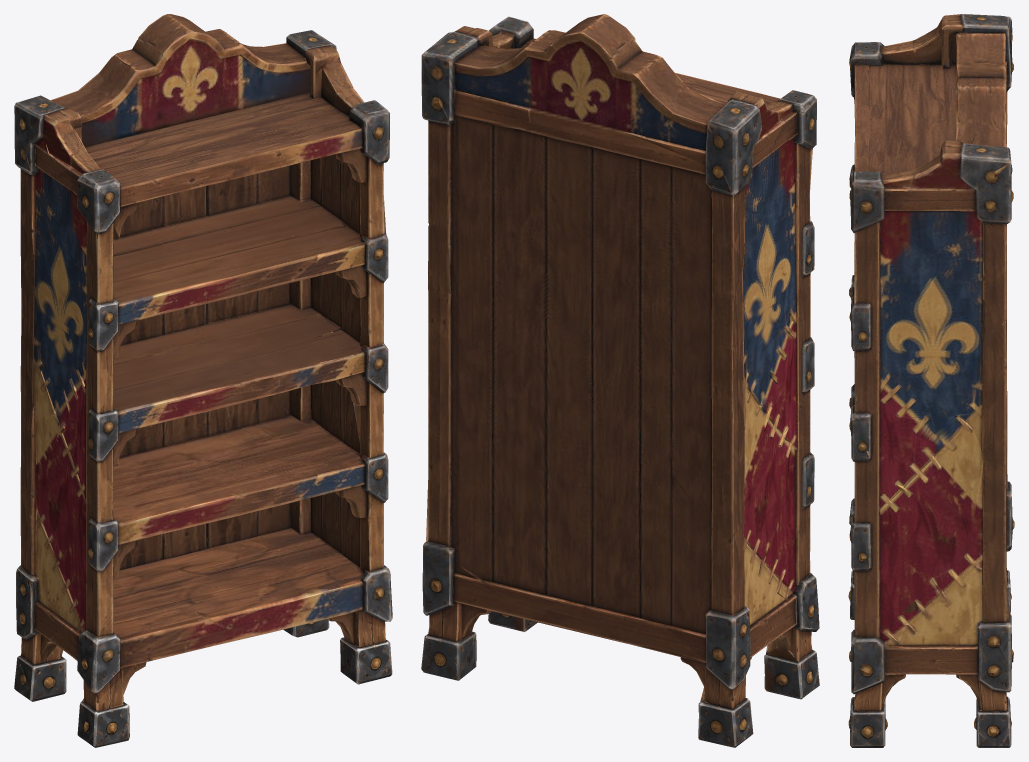
The model's file is shelf_unit.glb.
3 views of the same model, side by side, from view 1: azimuth 30°, elevation 25°; view 2: azimuth 150°, elevation 25°; view 3: azimuth 270°, elevation 25° (orthographic). The views are drawn at different scales.
Parts seen in each view (by area): view 1: output_unwrapped; view 2: output_unwrapped; view 3: output_unwrapped.
Boxes of the visible parts, x1=… form: output_unwrapped: x1=14, y1=14, x2=392, y2=747; output_unwrapped: x1=421, y1=14, x2=819, y2=747; output_unwrapped: x1=848, y1=14, x2=1014, y2=747.
Bounding box in the file's own units: 0.9401 × 1.9 × 0.446.
1 material, 1 textured.
